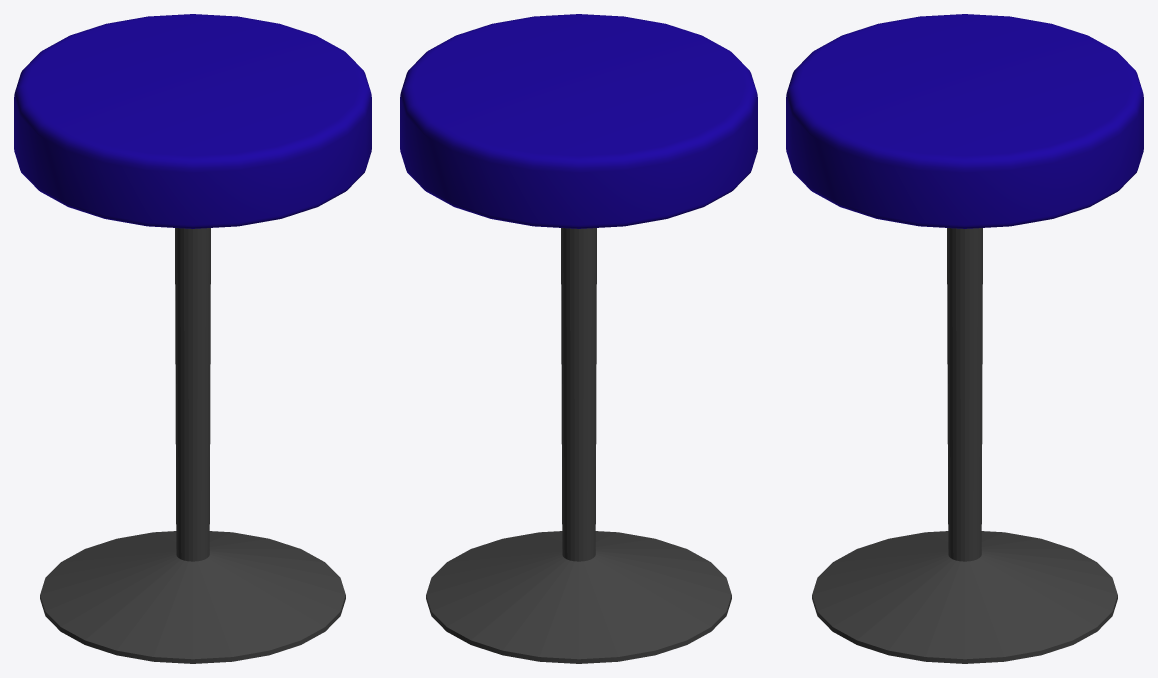
File: Stool.FBX
3 renders of one model, left to right at view 1: azimuth 30°, elevation 25°; view 2: azimuth 150°, elevation 25°; view 3: azimuth 270°, elevation 25°, orthographic.
Parts seen in each view (by area): view 1: Cylinder002, Cylinder001; view 2: Cylinder002, Cylinder001; view 3: Cylinder002, Cylinder001.
Boxes of the visible parts, box(x1,y1,x2,y2) form: Cylinder002: box(14, 14, 371, 228); Cylinder001: box(40, 228, 345, 663); Cylinder002: box(400, 14, 757, 228); Cylinder001: box(426, 228, 731, 663); Cylinder002: box(786, 14, 1143, 228); Cylinder001: box(812, 228, 1117, 663).
Bounding box in the file's own units: 14 × 22.18 × 14.
